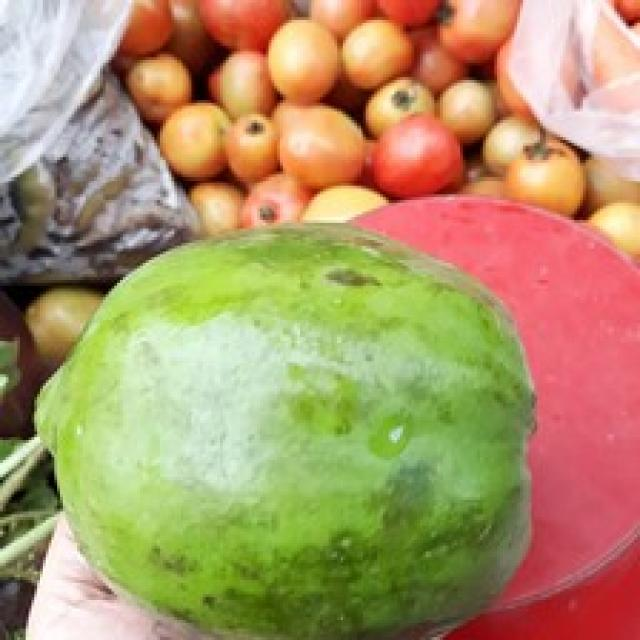Pepaya unrippen: (30, 220, 544, 635)
